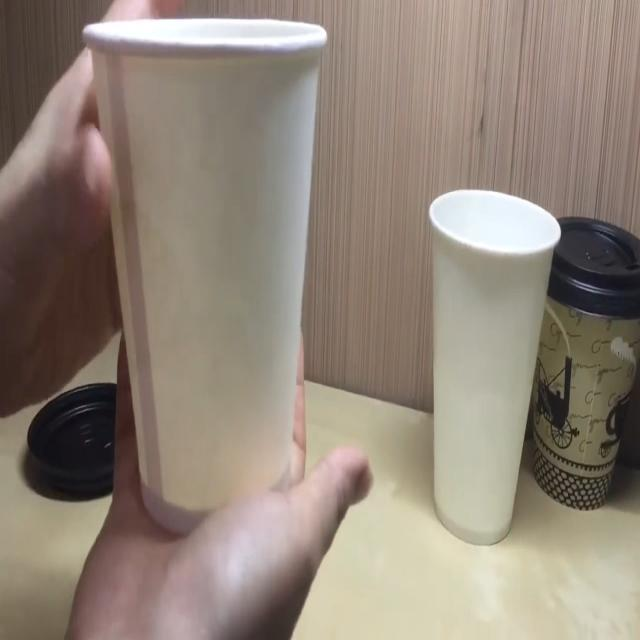cup: (80, 14, 330, 536), (425, 187, 560, 539), (532, 216, 640, 522)
